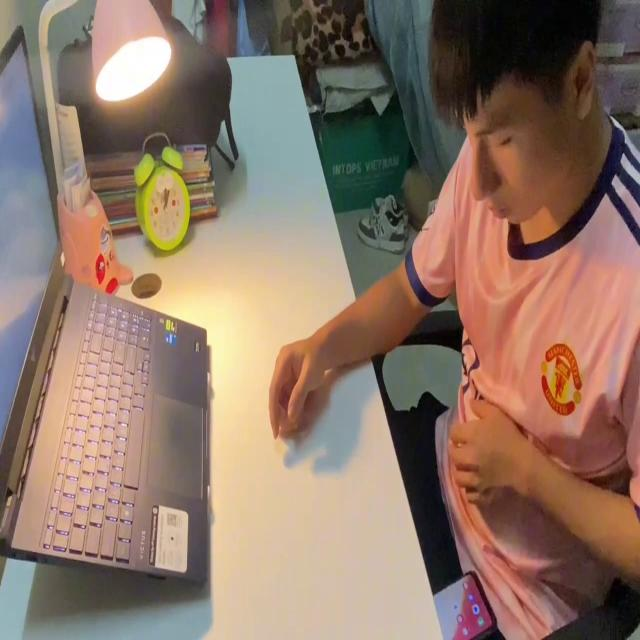laptop: (0, 22, 213, 596)
phone: (430, 569, 498, 640)
student: (270, 0, 640, 640)
